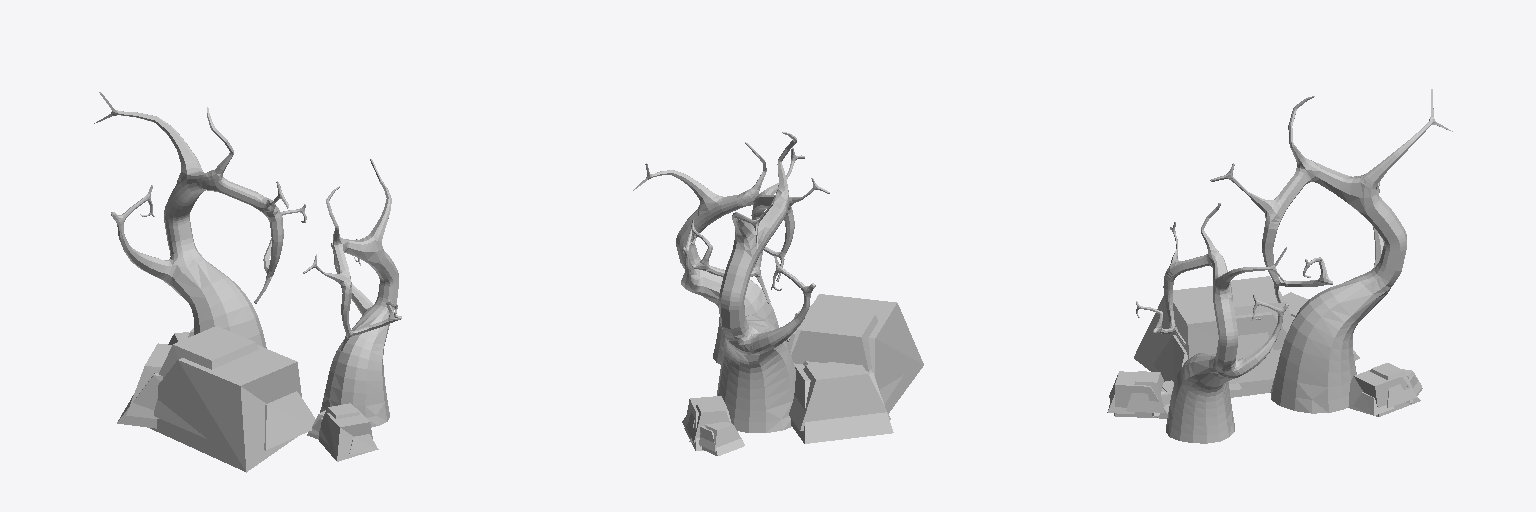
File: tree-set_dead.obj
3 renders of one model, left to right at view 1: azimuth 30°, elevation 25°; view 2: azimuth 150°, elevation 25°; view 3: azimuth 270°, elevation 25°, orthographic.
Visible parts, largest first — view 1: tree_02_04; view 2: tree_02_04; view 3: tree_02_04.
Part boxes in pixels (x1,y1,x2,y2): tree_02_04: (94, 92, 401, 472); tree_02_04: (633, 132, 923, 455); tree_02_04: (1107, 89, 1452, 443).
Bounding box in the file's own units: 4.19 × 4.37 × 4.73.